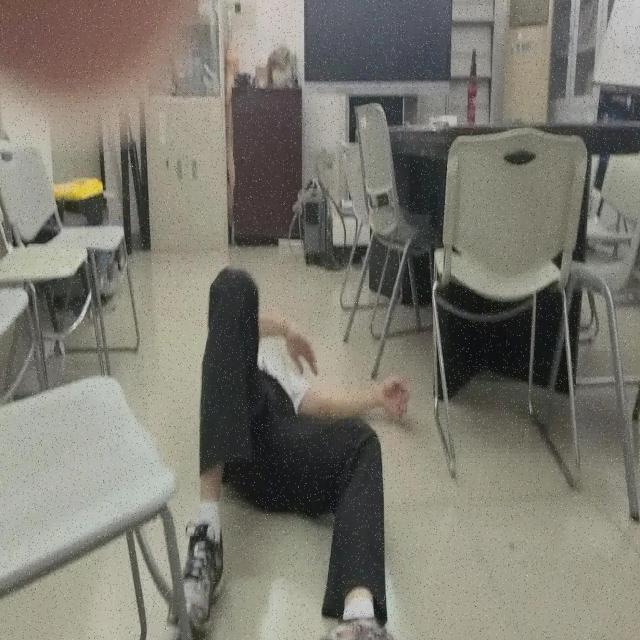fall: (166, 266, 420, 640)
